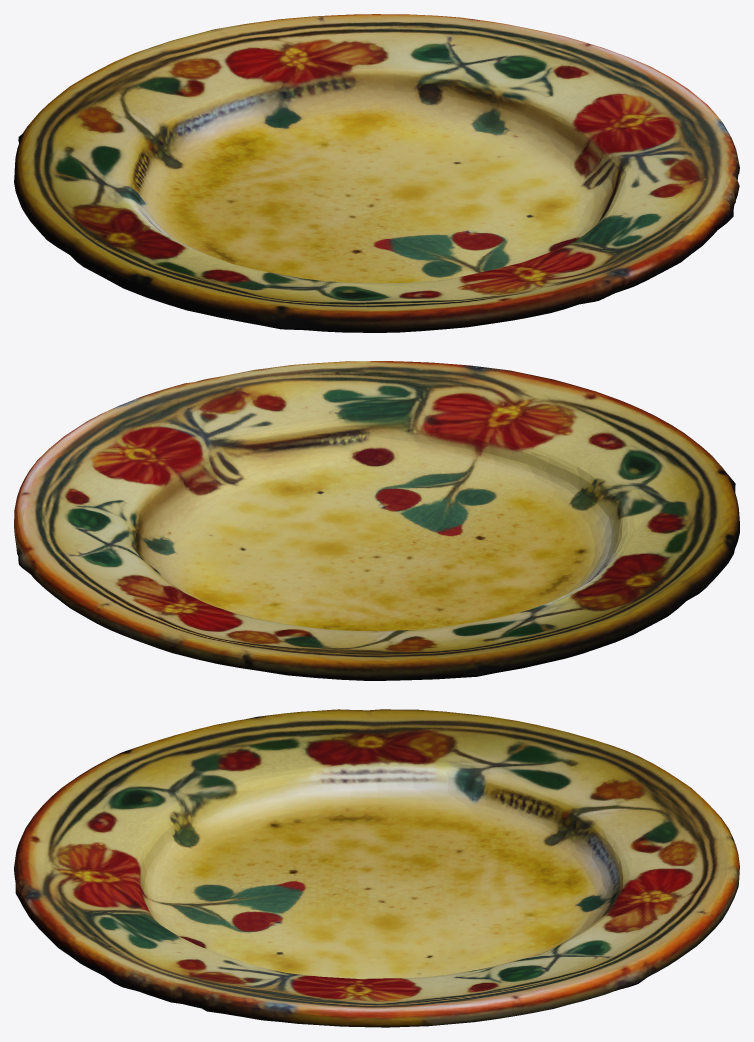
File: ceramic-plate-used-rustic-worn.jpeg.glb
The picture shows the model from 3 angles, top to bottom: view 1: azimuth 30°, elevation 25°; view 2: azimuth 150°, elevation 25°; view 3: azimuth 270°, elevation 25°; orthographic projection.
Parts seen in each view (by area): view 1: world; view 2: world; view 3: world.
Boxes of the visible parts, x1,y1,x2,y2 form: world: (14, 14, 739, 332); world: (14, 361, 739, 680); world: (14, 709, 739, 1027).
Size of the model in its own units: 0.9962 by 0.0828 by 0.9998.
1 material, 1 textured.
